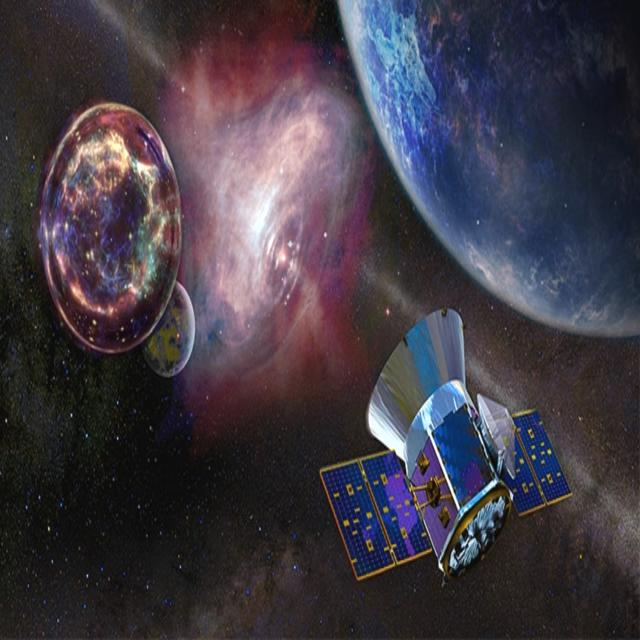medium_debris: (309, 303, 577, 610)
